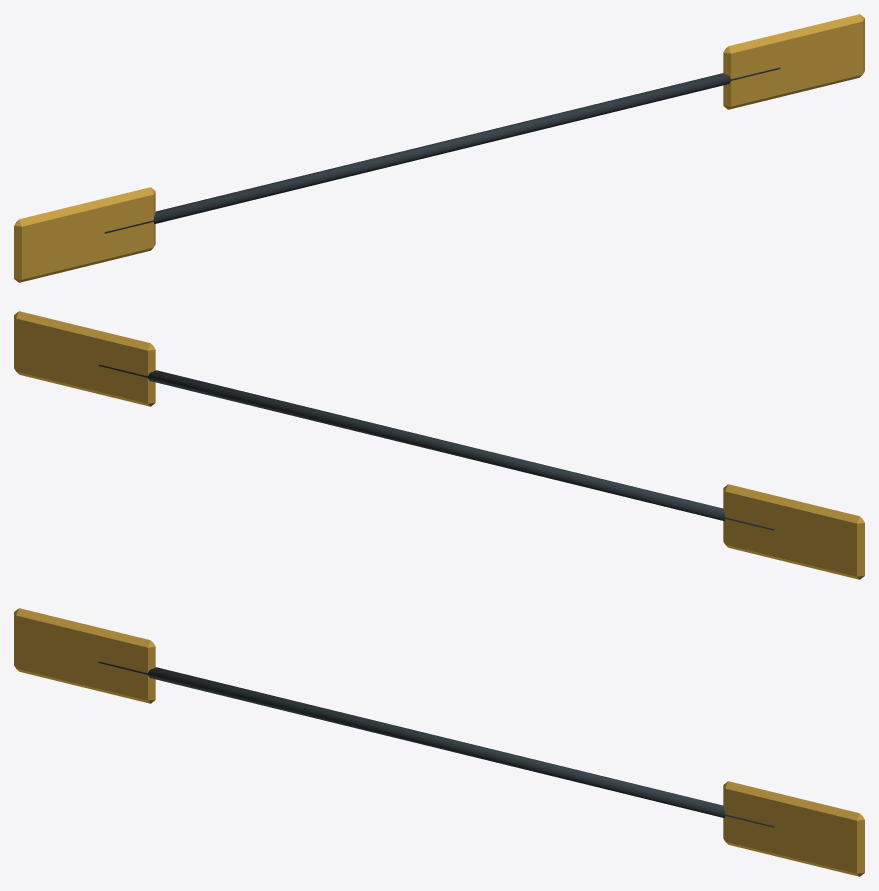
File: kayak_paddle.glb
3 views of the same model, one above another, from view 1: azimuth 30°, elevation 25°; view 2: azimuth 150°, elevation 25°; view 3: azimuth 330°, elevation 25° (orthographic).
Visible parts, largest first — view 1: kayak_paddle; view 2: kayak_paddle; view 3: kayak_paddle.
Part boxes in pixels (x1=…): kayak_paddle: x1=14, y1=14, x2=864, y2=282; kayak_paddle: x1=14, y1=311, x2=864, y2=579; kayak_paddle: x1=14, y1=608, x2=864, y2=876.
Size of the model in its own units: 2.52 by 0.18 by 0.032.
